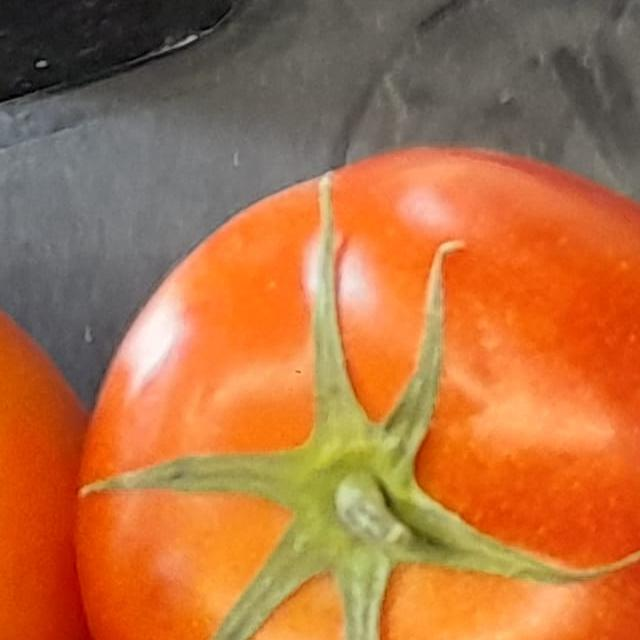tomato: (65, 125, 640, 640)
